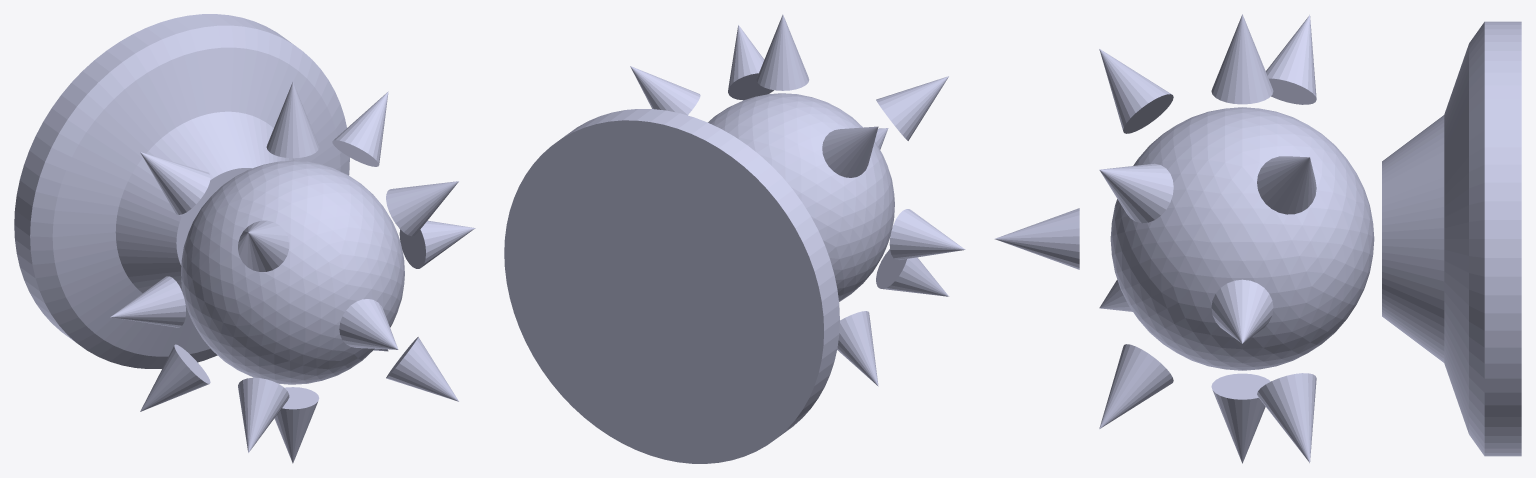
The model's file is shataghni_chandra.glb.
3 renders of one model, left to right at view 1: azimuth 30°, elevation 25°; view 2: azimuth 150°, elevation 25°; view 3: azimuth 270°, elevation 25°, orthographic. The views are drawn at different scales.
Visible parts, largest first — view 1: geometry_0; view 2: geometry_0; view 3: geometry_0.
Boxes of the visible parts, <box> form: geometry_0: <box>14,14,475,463</box>; geometry_0: <box>504,14,965,463</box>; geometry_0: <box>995,14,1521,463</box>.
Size of the model in its own units: 0.032 by 0.032 by 0.034.
